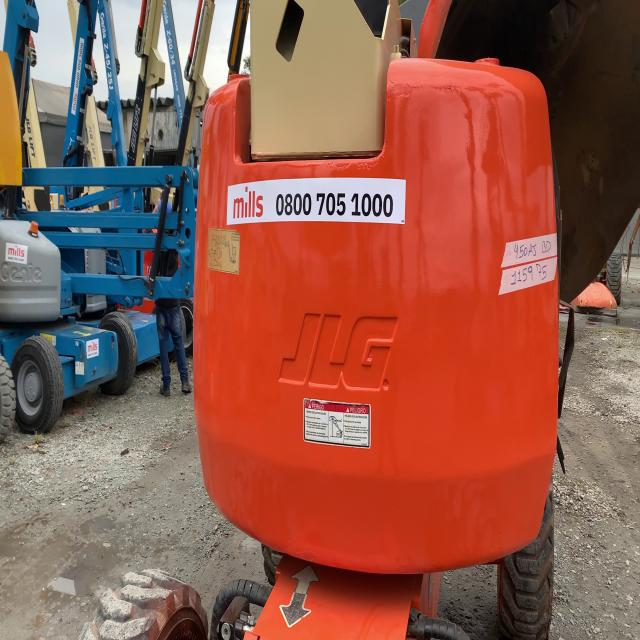Adesivo Longo: (223, 169, 412, 230)
